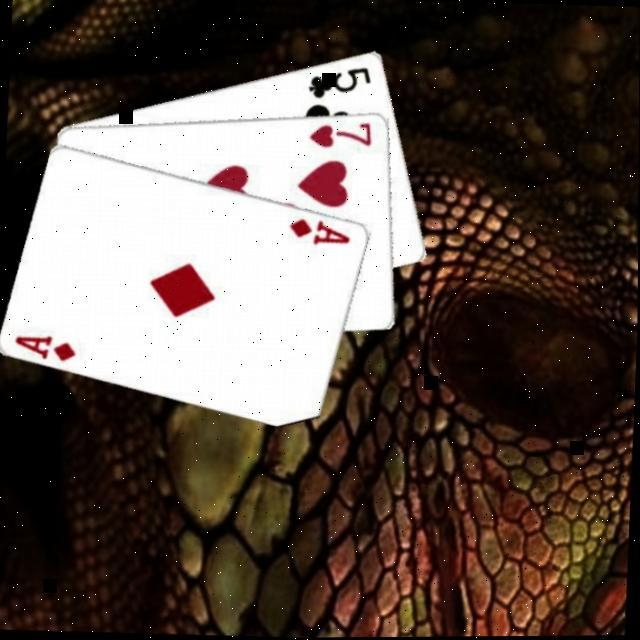5C: (306, 60, 376, 101)
7H: (307, 117, 376, 149)
AD: (286, 214, 354, 248), (13, 329, 80, 363)
